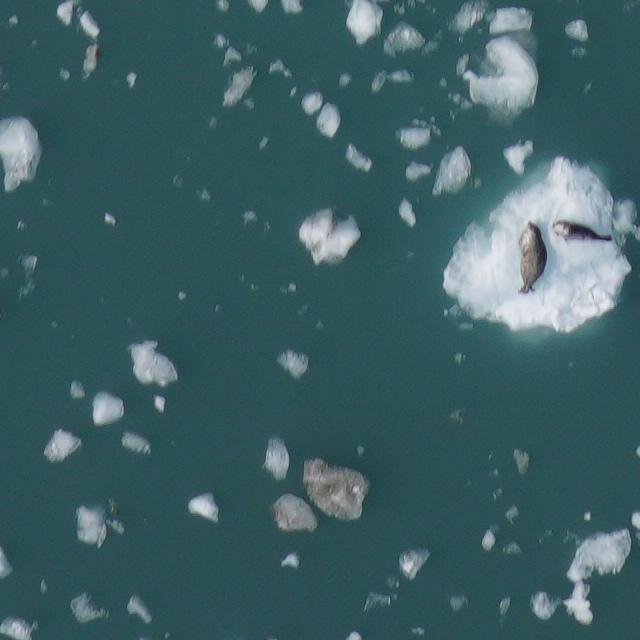seal: (519, 220, 547, 293), (552, 220, 612, 243)
